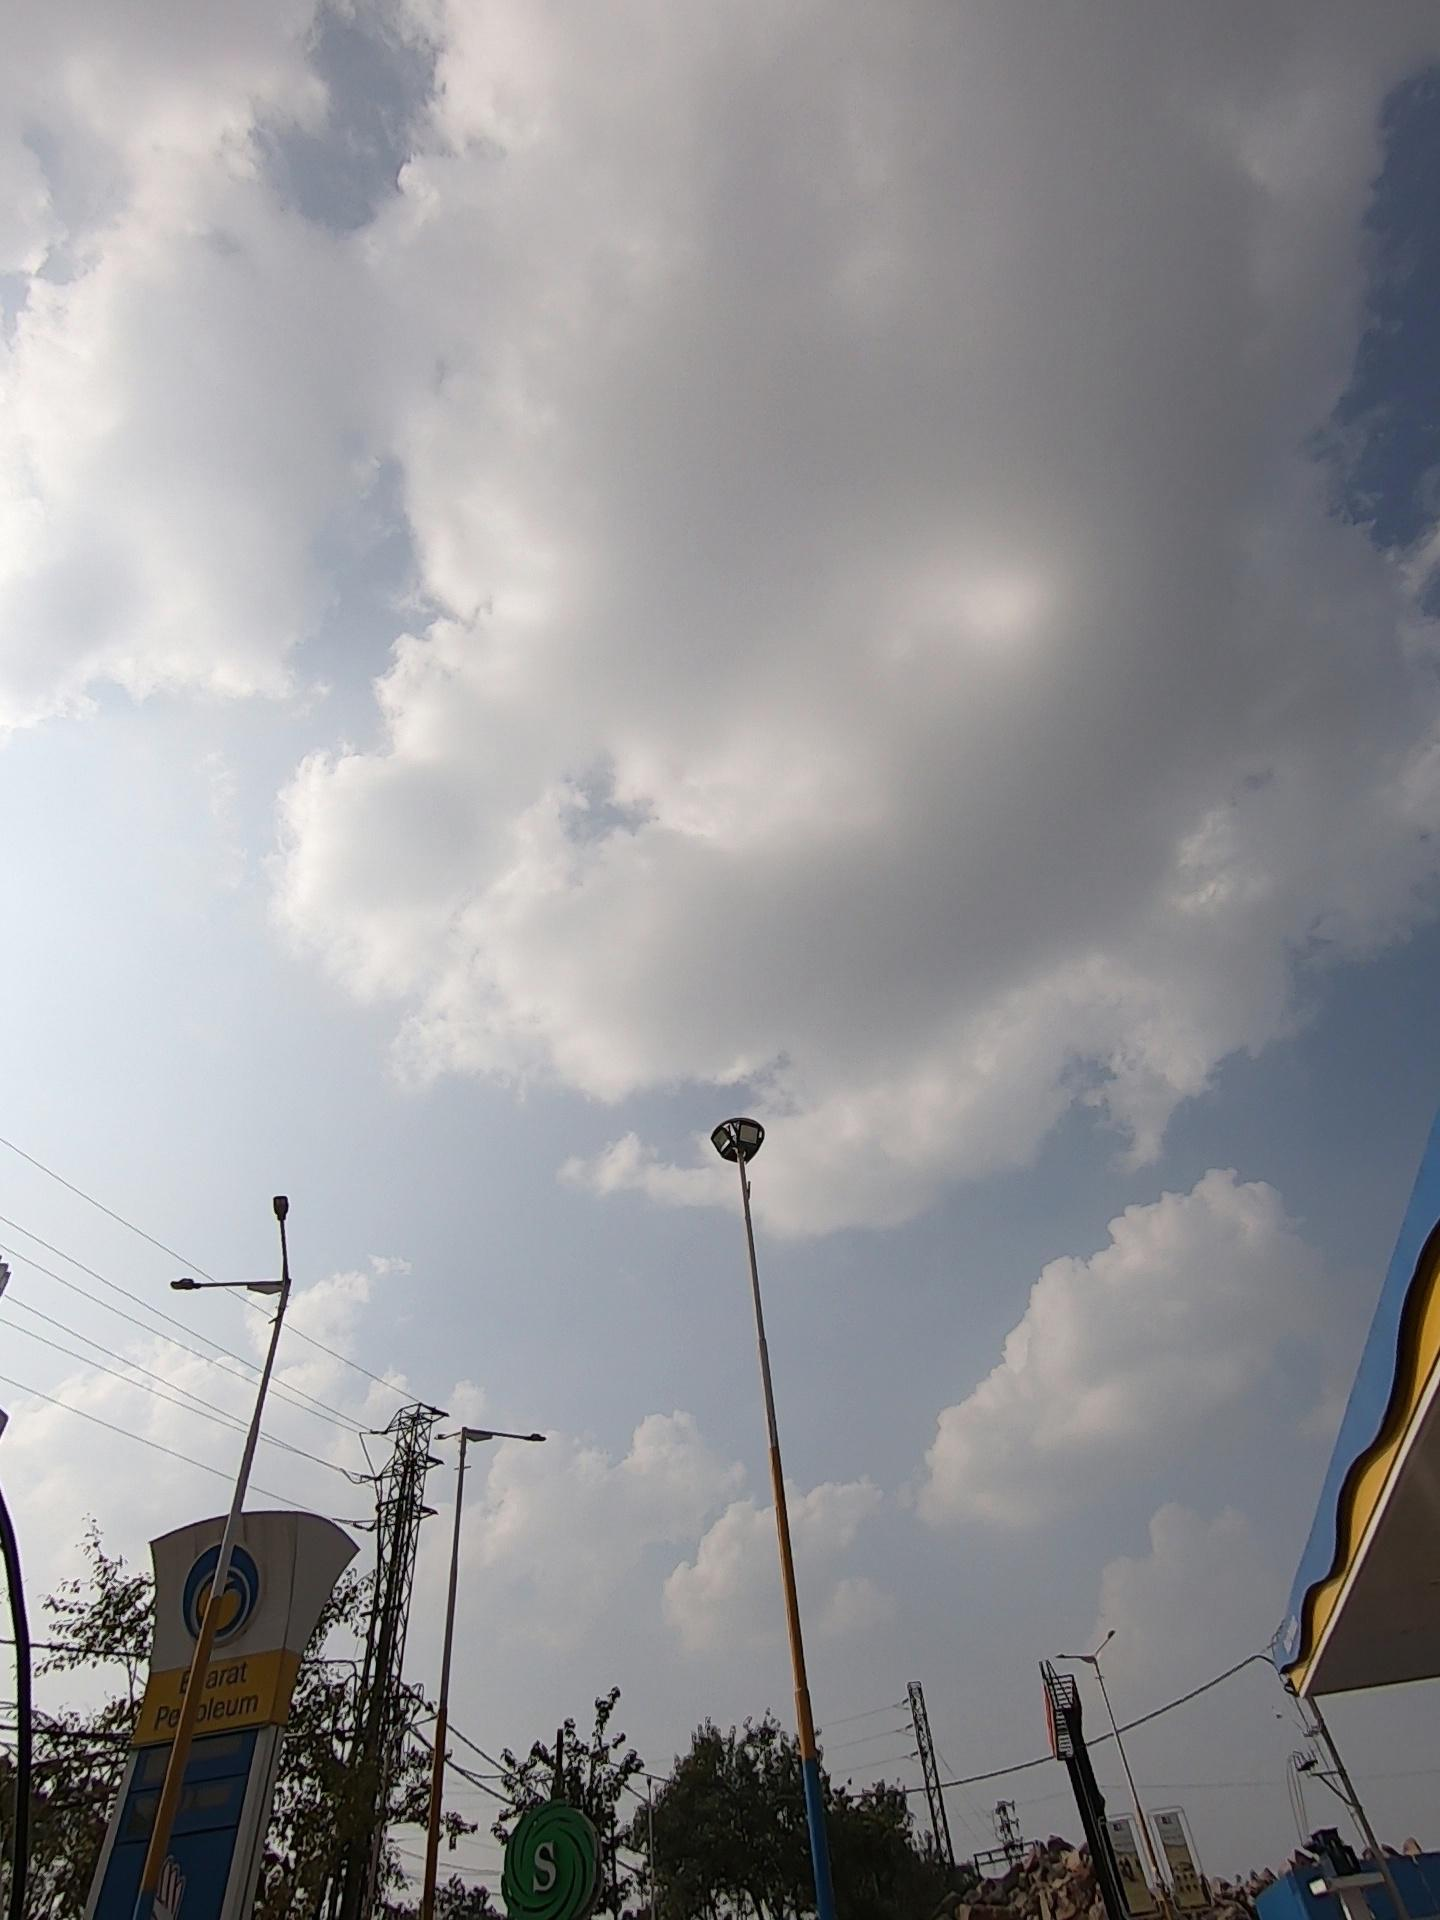off: (141, 1172, 404, 1388), (690, 1055, 803, 1235)
